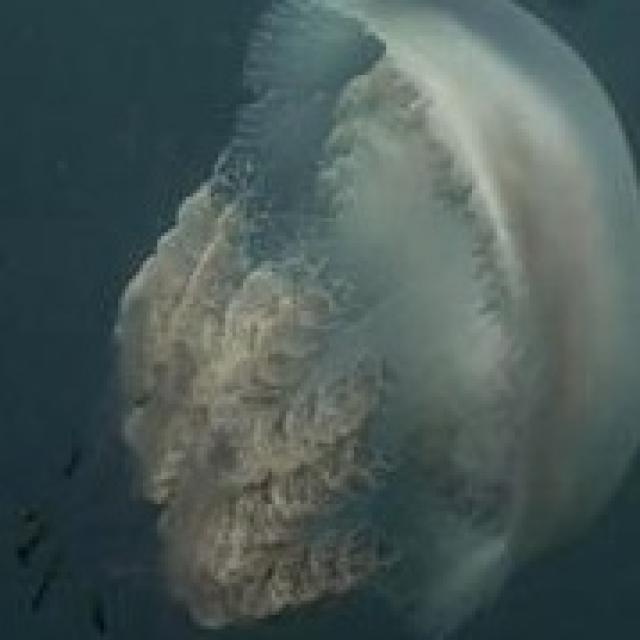Moon-jellyfish: (75, 0, 640, 619)
